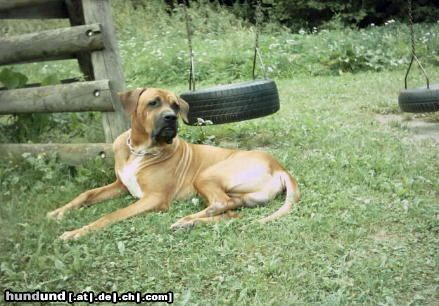tosa_inu: (45, 86, 300, 243)
